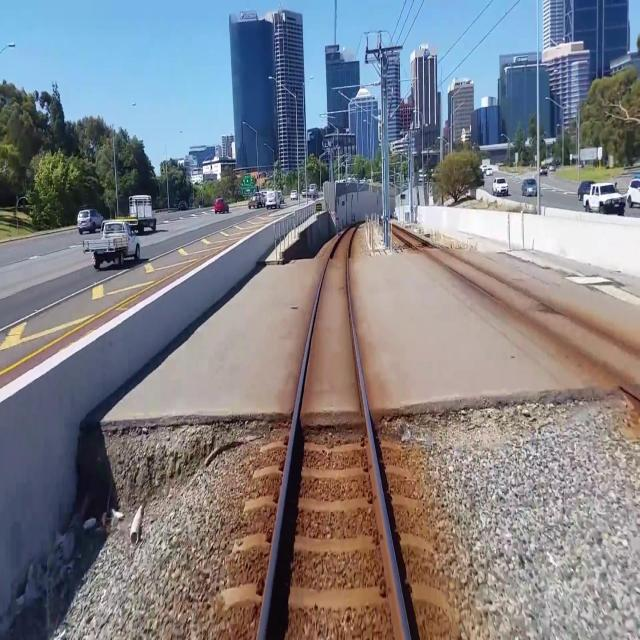rail-track: (262, 222, 405, 639), (392, 224, 640, 389)
